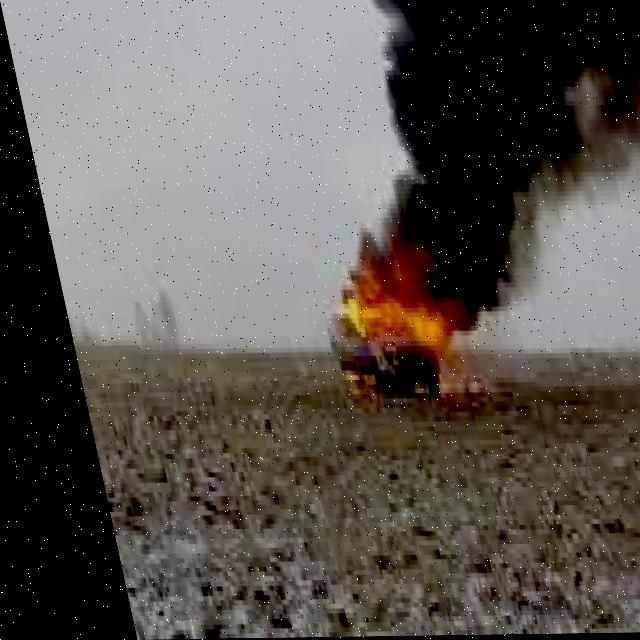Fire: (299, 247, 455, 400)
